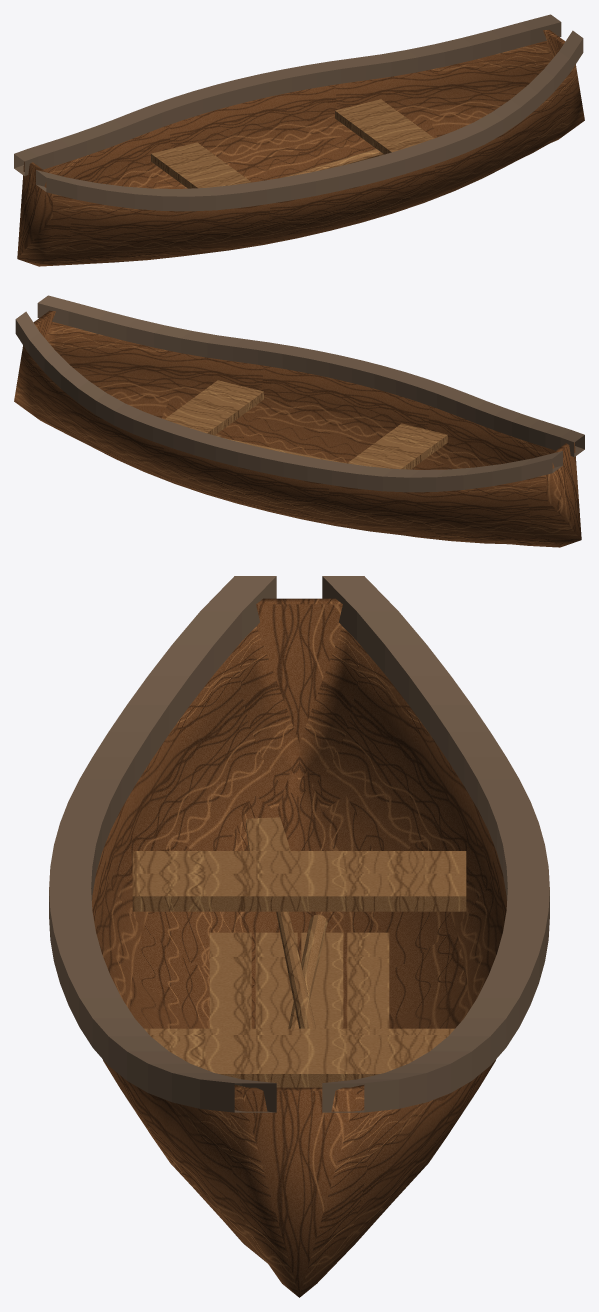
Rendered from perahu-blender-v1.glb.
3 views of the same model, one above another, from view 1: azimuth 30°, elevation 25°; view 2: azimuth 150°, elevation 25°; view 3: azimuth 270°, elevation 25° (orthographic). The views are drawn at different scales.
Parts seen in each view (by area): view 1: hull, rails, interior; view 2: hull, rails, interior; view 3: hull, rails, interior.
Boxes of the visible parts, x1,y1,x2,y2 form: hull: [17, 29, 584, 266]; rails: [14, 14, 583, 211]; interior: [151, 99, 434, 188]; hull: [14, 310, 581, 547]; rails: [15, 295, 584, 492]; interior: [164, 380, 447, 469]; hull: [92, 598, 506, 1297]; rails: [49, 576, 549, 1112]; interior: [132, 817, 466, 1087].
Size of the model in its own units: 3.43 by 0.7694 by 1.31.
3 materials, 2 textured.
